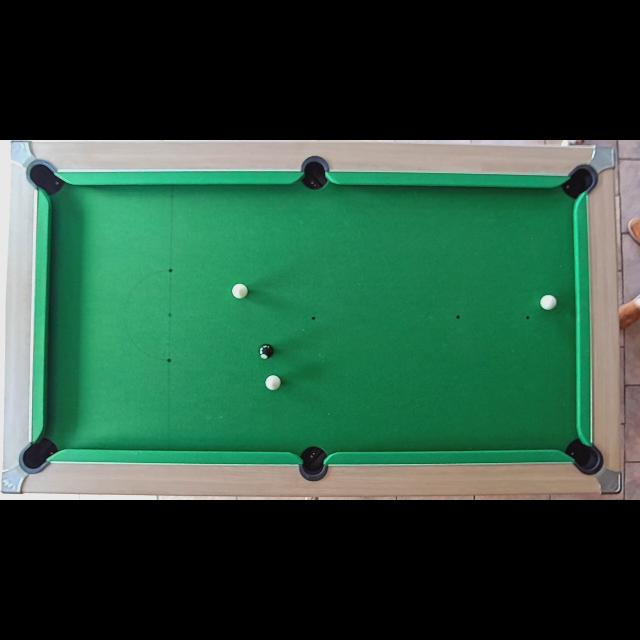Ball: (540, 294, 556, 310), (232, 283, 248, 299), (265, 376, 281, 390), (258, 344, 274, 358)
